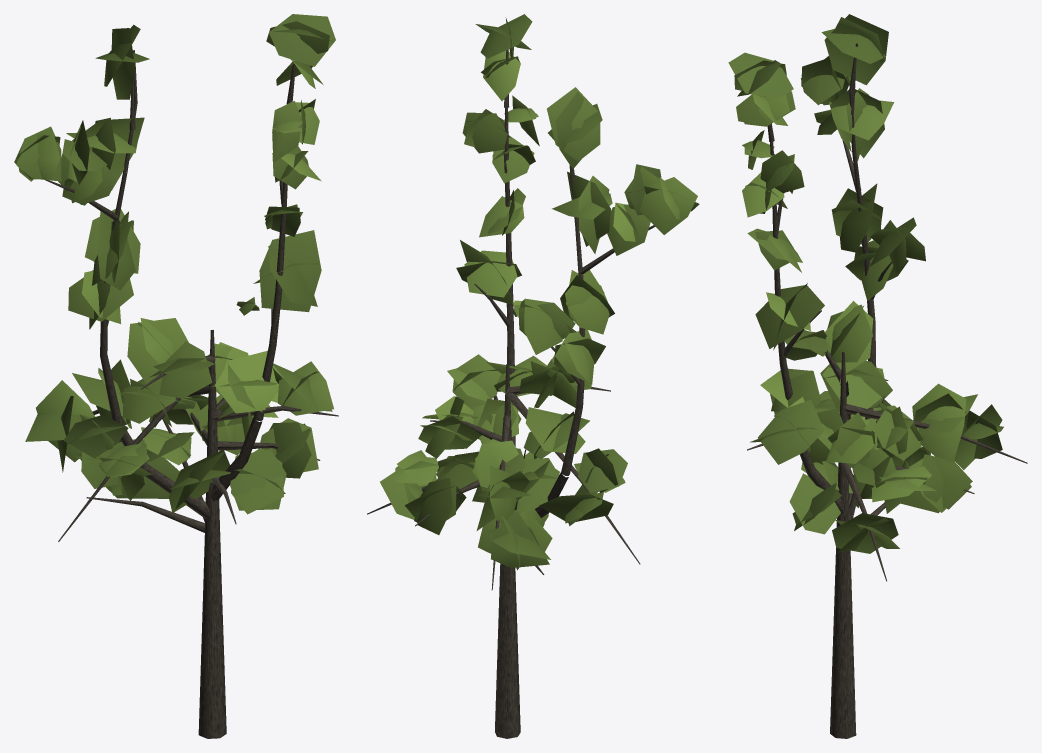
File: open_04_native_base_T016717_lod2.glb
3 views of the same model, side by side, from view 1: azimuth 30°, elevation 25°; view 2: azimuth 150°, elevation 25°; view 3: azimuth 270°, elevation 25° (orthographic). The views are drawn at different scales.
Visible parts, largest first — view 1: individual_curved_leaf_sprigs, retained_branches_0, retained_branches_1; view 2: individual_curved_leaf_sprigs, retained_branches_0, retained_branches_1; view 3: individual_curved_leaf_sprigs, retained_branches_0, retained_branches_1.
Boxes of the visible parts, box(x1,y1,x2,y2) form: individual_curved_leaf_sprigs: box(14, 14, 335, 514); retained_branches_0: box(45, 50, 338, 541); retained_branches_1: box(198, 532, 226, 738); individual_curved_leaf_sprigs: box(380, 14, 699, 570); retained_branches_0: box(367, 49, 655, 590); retained_branches_1: box(495, 563, 520, 738); individual_curved_leaf_sprigs: box(728, 14, 1003, 553); retained_branches_0: box(747, 43, 1027, 581); retained_branches_1: box(830, 547, 856, 738).
Size of the model in its own units: 7.51 by 15.75 by 6.17.
2 materials, 1 textured.
